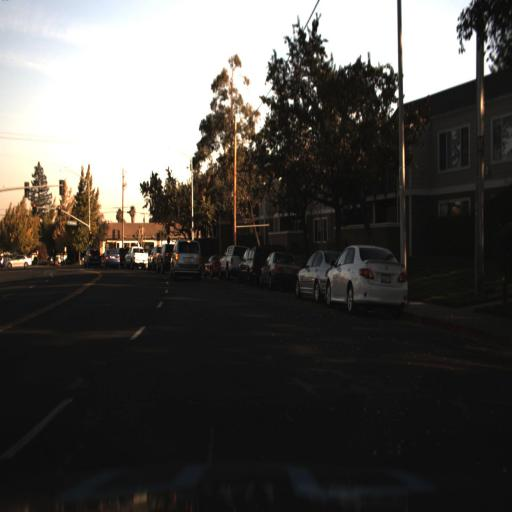car: (326, 234, 420, 316), (294, 243, 326, 305), (256, 248, 300, 291), (264, 251, 298, 294), (172, 237, 205, 281), (234, 247, 265, 287), (216, 241, 240, 284), (217, 244, 244, 280), (238, 246, 262, 286), (198, 245, 220, 281), (95, 243, 122, 270), (100, 247, 125, 273), (123, 245, 148, 270), (126, 245, 148, 272), (82, 242, 103, 270), (80, 243, 102, 269), (158, 242, 173, 272), (146, 248, 160, 270)
trafficLight-Red: (54, 200, 64, 218), (30, 196, 39, 215), (86, 228, 94, 243)
